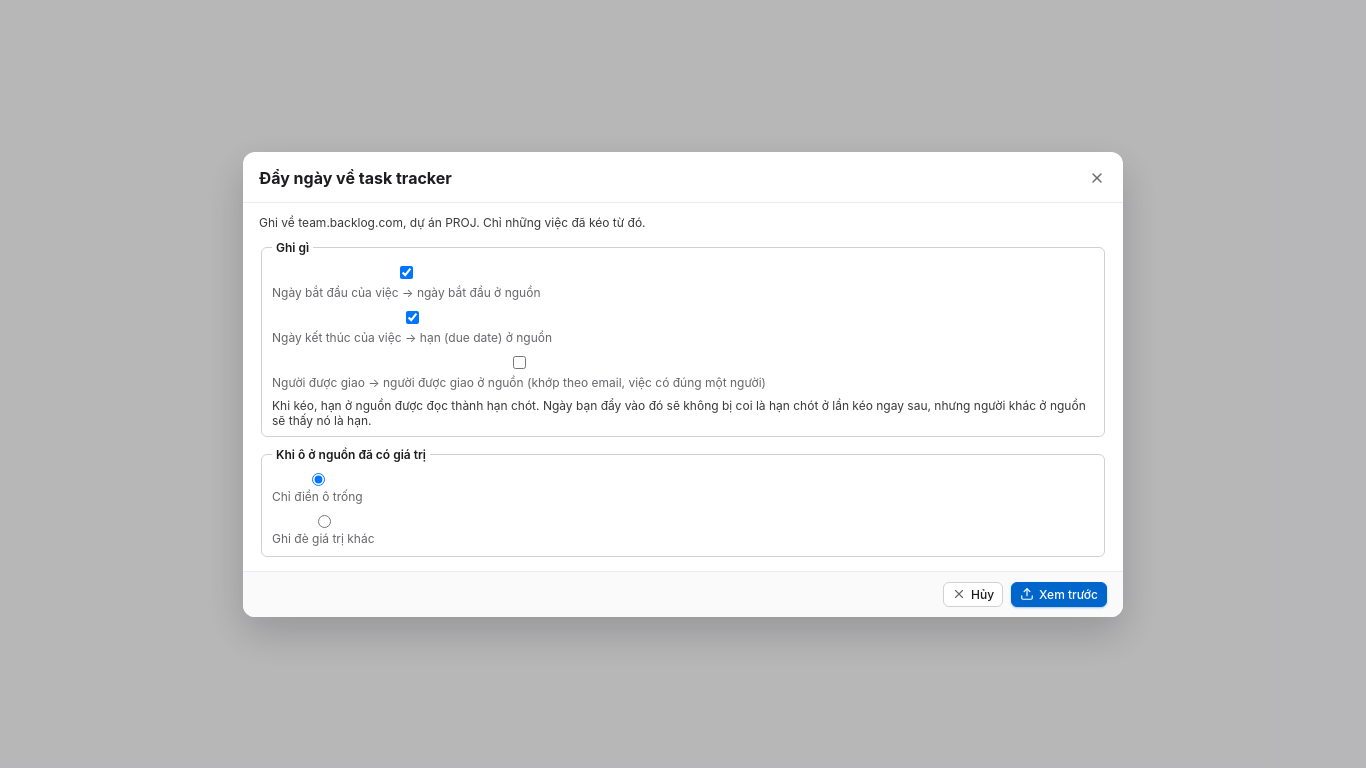
TrackerPushDialog › cannot preview with nothing chosen
Click the checkbox labelled "Ngày bắt đầu của việc → ngày bắt đầu ở nguồn": point(407, 272) top-left (276, 266), bottom-right (538, 278)
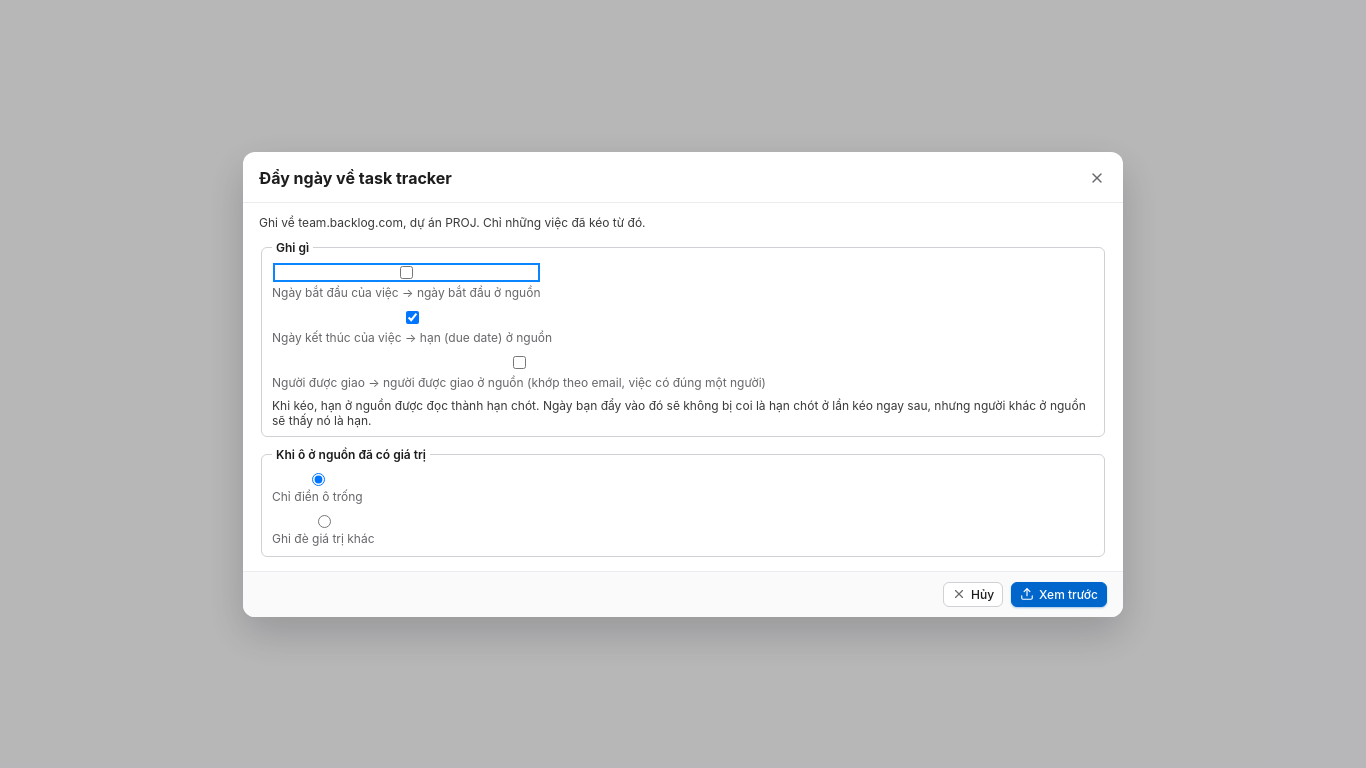
Click the checkbox labelled "Ngày kết thúc của việc → hạn (due date) ở nguồn": point(412, 317) top-left (276, 310), bottom-right (549, 324)
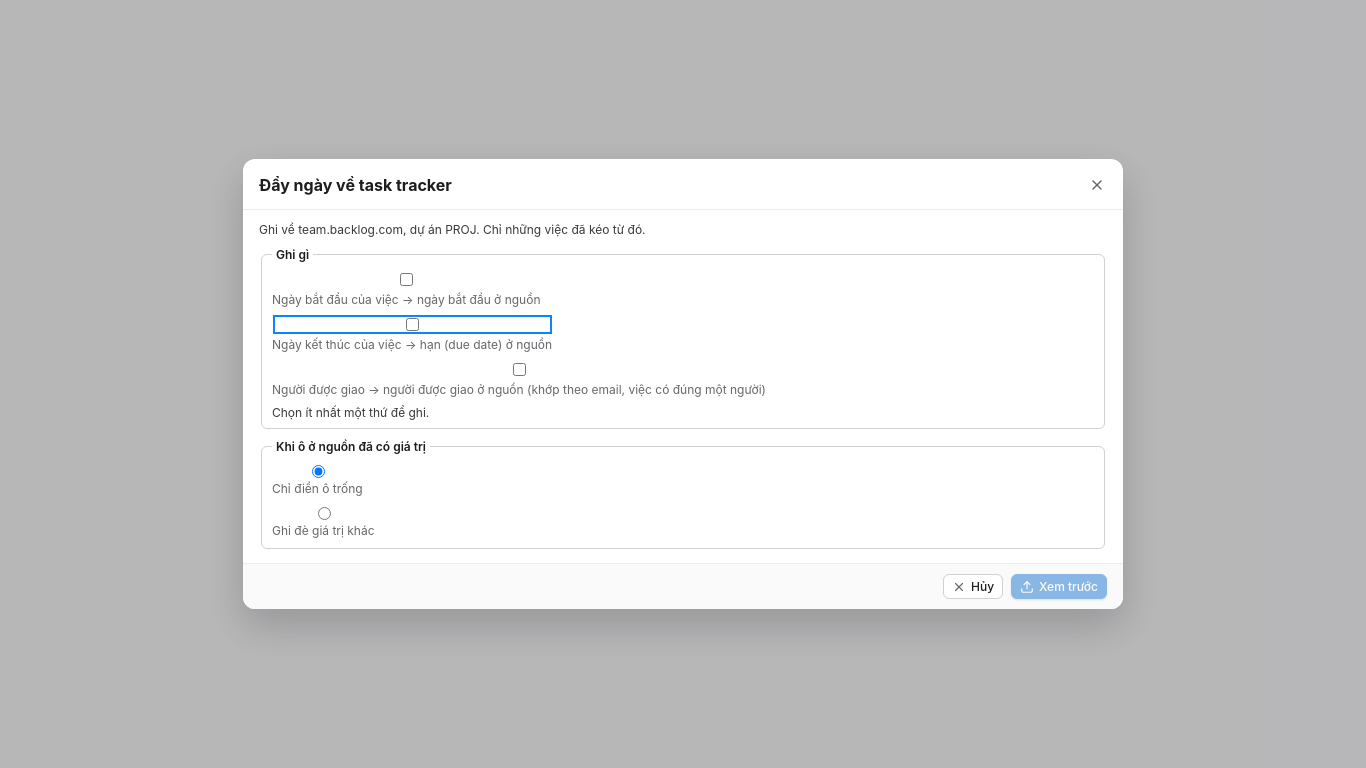
Expected: the text "Chọn ít nhất một thứ để ghi." is shown, top-left (272, 405), bottom-right (429, 420)
Expected: the button "Xem trước" is disabled, top-left (1011, 574), bottom-right (1107, 599)
